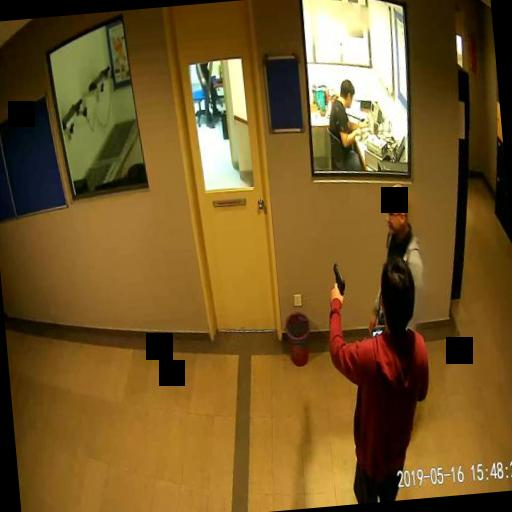Handgun: (329, 262, 345, 296)
